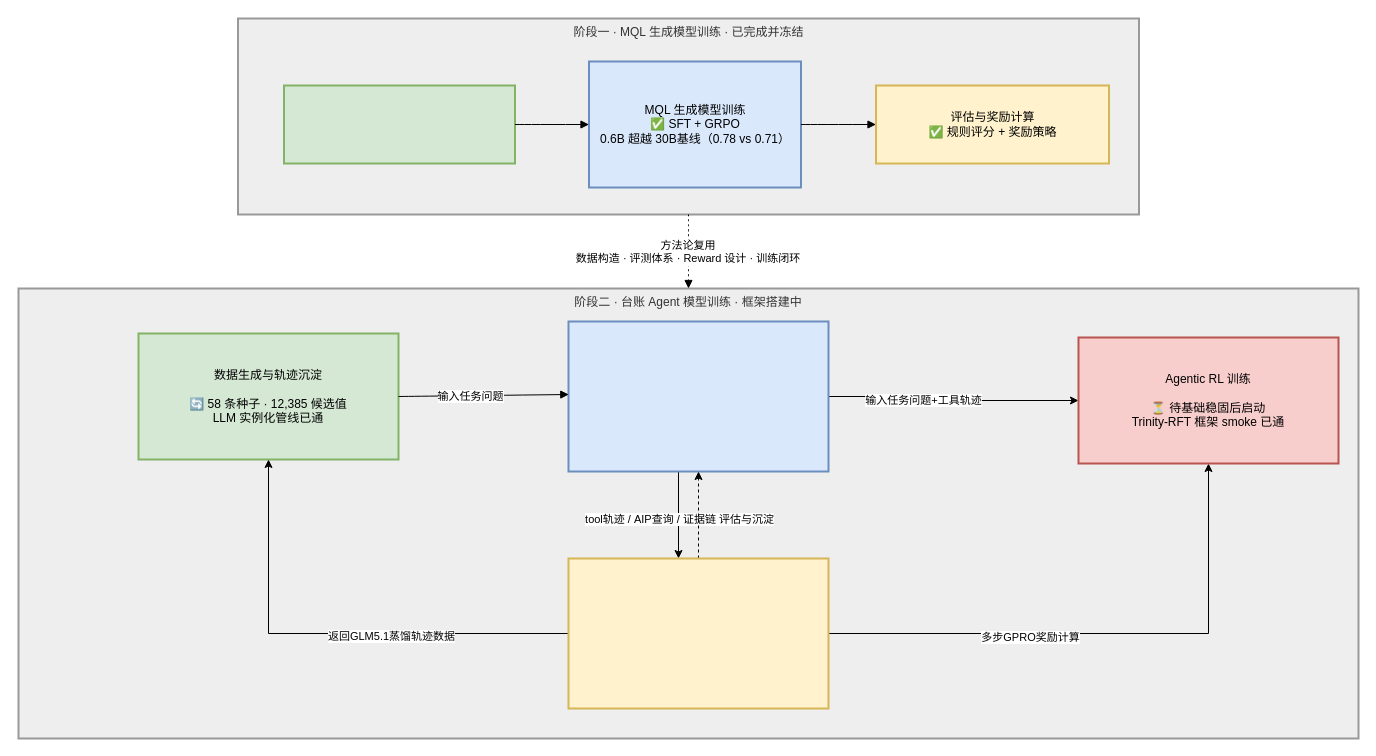
This 1376x756 diagram has some shape labels left out. The centre of each missing label's shape, as x and y in pixels:
"AgentScope 执行 🔄 主链路闭环 · 191 项测试通过 Agent 读 Skill → 调 API → 留证据 → 出结论" belongs at pixel 698 396.
"OpenJudge 评估与奖励服务 🔄 4 维自动评分 · Judge Service MVP 双环境隔离已落地 · 业务错误 reward 门禁" belongs at pixel 698 633.
"数据生成与管理 ✅ 训练样本构造与清洗" belongs at pixel 399 124.
